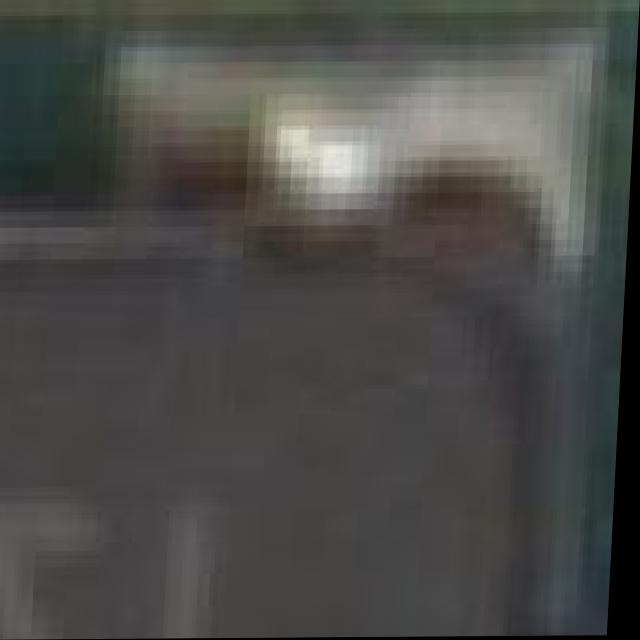clock: (0, 197, 548, 640)
